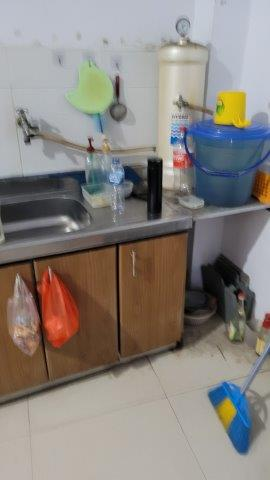botolkaca: (228, 293, 248, 343)
botolplastik: (171, 126, 194, 200), (109, 158, 124, 221)
plastik: (43, 270, 79, 349), (8, 272, 40, 355)
